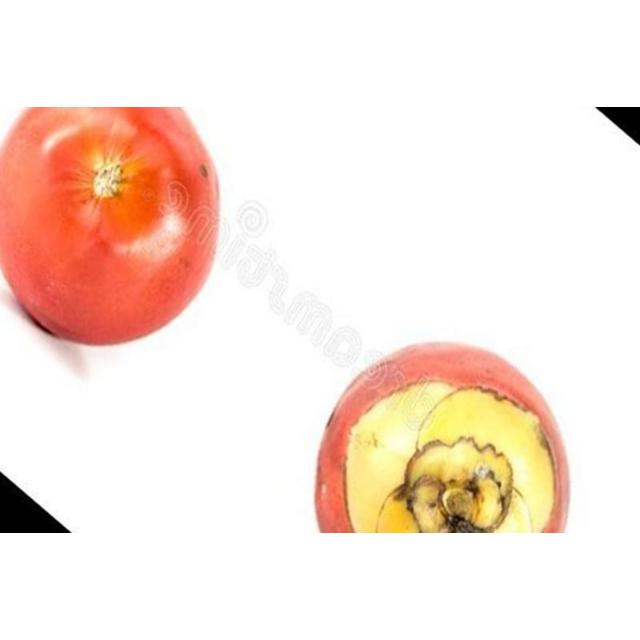good: (0, 107, 220, 346), (314, 342, 570, 533)
